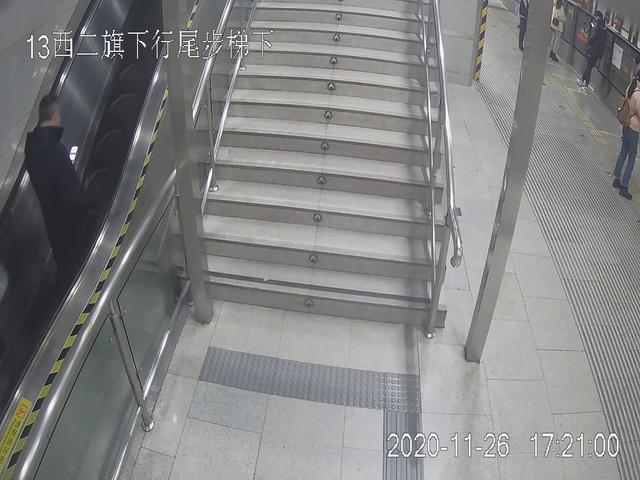person: (17, 92, 99, 296), (612, 69, 640, 200), (585, 10, 609, 98)
